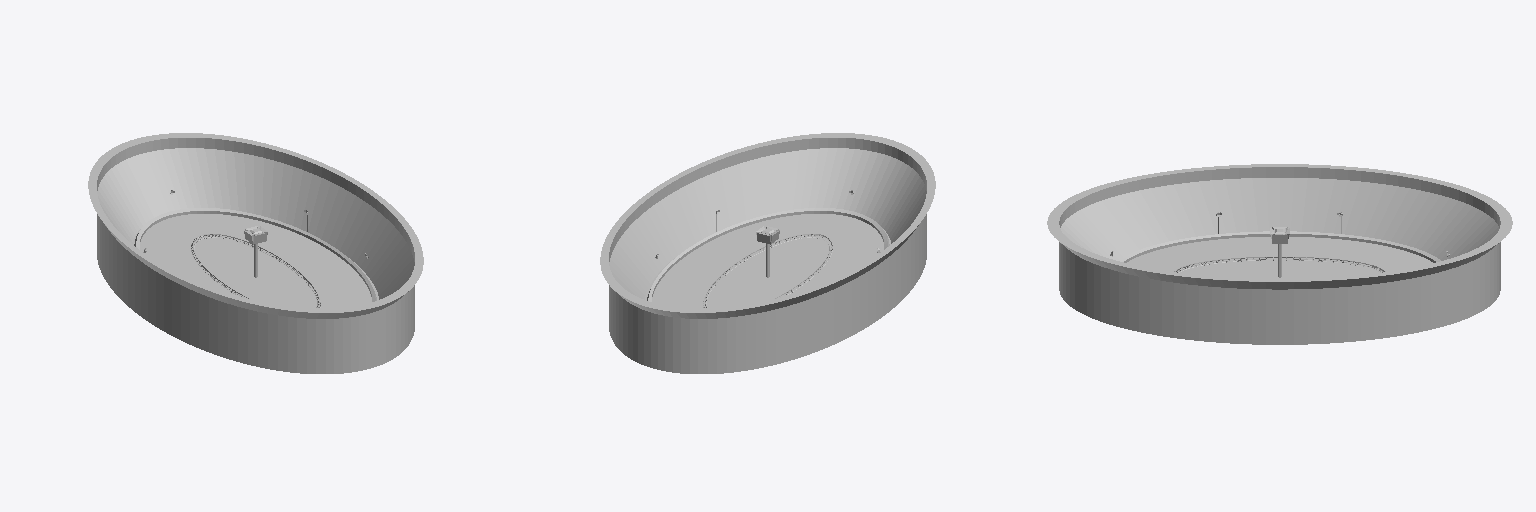
Rendered from decors.obj.
3 views of the same model, side by side, from view 1: azimuth 30°, elevation 25°; view 2: azimuth 150°, elevation 25°; view 3: azimuth 270°, elevation 25° (orthographic).
Visible parts, largest first — view 1: Gradin, Piste, Barriere_exterieure; view 2: Gradin, Piste, Barriere_exterieure; view 3: Gradin, Piste, Barriere_exterieure.
Part boxes in pixels (left/top/right/bottom): Gradin: left=88, top=133, right=423, bottom=373; Piste: left=133, top=214, right=378, bottom=308; Barriere_exterieure: left=134, top=208, right=376, bottom=301; Gradin: left=600, top=133, right=935, bottom=373; Piste: left=645, top=214, right=890, bottom=308; Barriere_exterieure: left=647, top=208, right=889, bottom=301; Gradin: left=1047, top=164, right=1512, bottom=344; Piste: left=1127, top=237, right=1432, bottom=278; Barriere_exterieure: left=1119, top=231, right=1440, bottom=262.
Bounding box in the file's own units: 205 × 53.51 × 342.